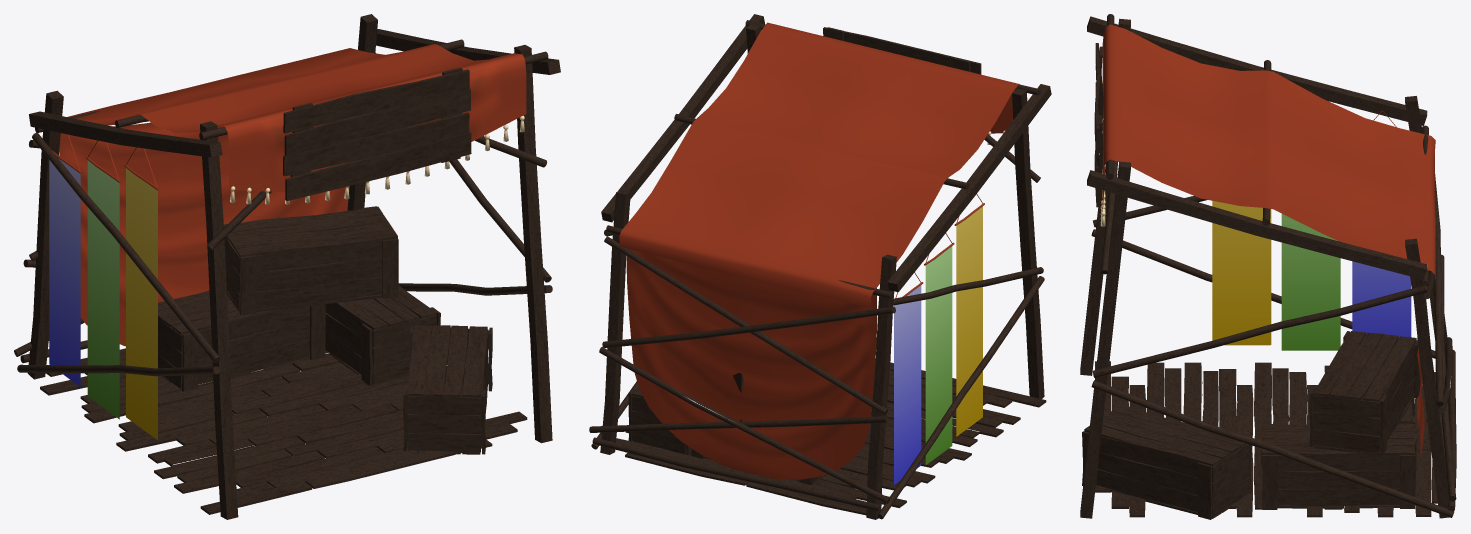
3 views of the same model, side by side, from view 1: azimuth 30°, elevation 25°; view 2: azimuth 150°, elevation 25°; view 3: azimuth 270°, elevation 25° (orthographic). The views are drawn at different scales.
Visible parts, largest first — view 1: Frame, Sheat; view 2: Sheat, Frame; view 3: Frame, Sheat.
Boxes of the visible parts, <box> form: Frame: <box>14,14,560,519</box>; Sheat: <box>49,44,526,439</box>; Sheat: <box>619,22,1019,484</box>; Frame: <box>589,14,1051,519</box>; Frame: <box>1080,14,1456,519</box>; Sheat: <box>1100,24,1435,458</box>.
Size of the model in its own units: 3.97 by 4.17 by 3.95.
1 material, 1 textured.
